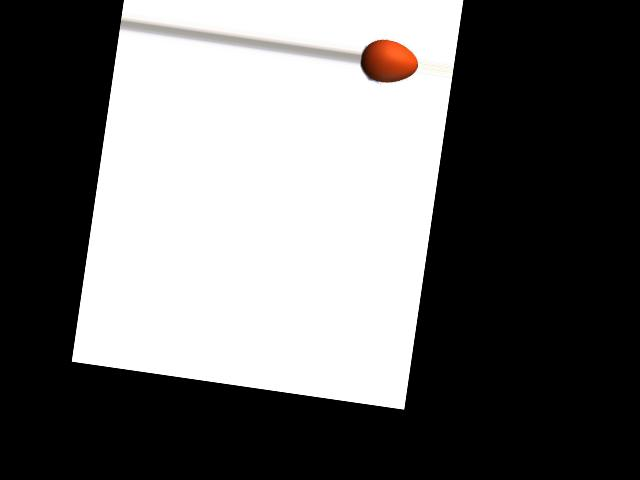egg: (358, 36, 420, 86)
